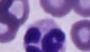N: (23, 19, 67, 52)
